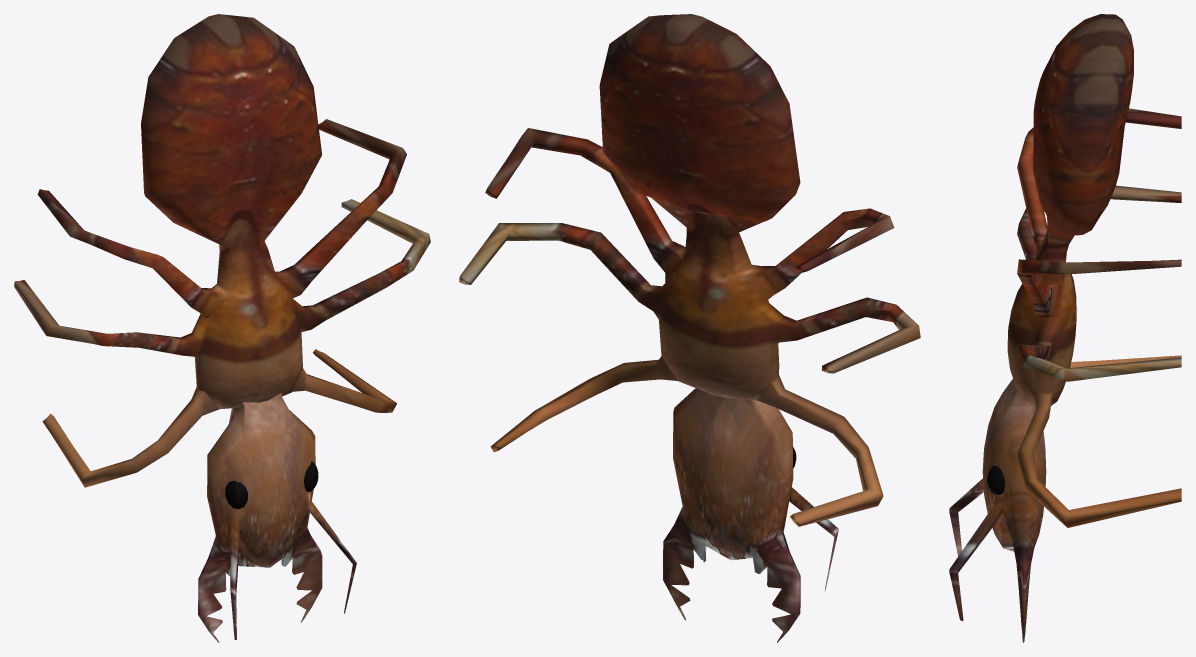
Rendered from ant_GEO_01.fbx.
3 renders of one model, left to right at view 1: azimuth 30°, elevation 25°; view 2: azimuth 150°, elevation 25°; view 3: azimuth 270°, elevation 25°, orthographic. The views are drawn at different scales.
Parts seen in each view (by area): view 1: Ant_GEO_01; view 2: Ant_GEO_01; view 3: Ant_GEO_01.
Boxes of the visible parts, x1,y1,x2,y2 form: Ant_GEO_01: (14, 14, 430, 642); Ant_GEO_01: (459, 14, 920, 642); Ant_GEO_01: (949, 14, 1181, 642).
Size of the model in its own units: 0.7397 by 1.07 by 0.3766.
Materials: 2 (2 with a texture image).
